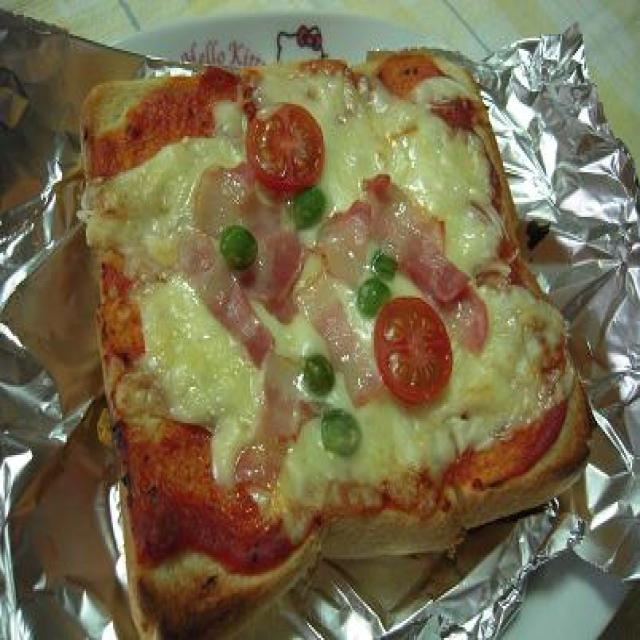面包点心: (25, 9, 640, 618)
